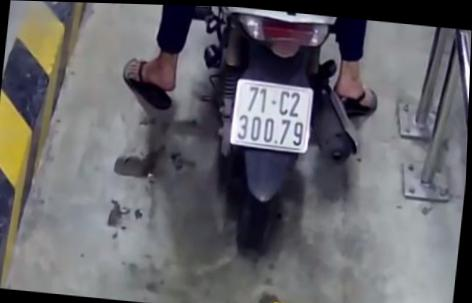LP: (230, 74, 315, 151)
